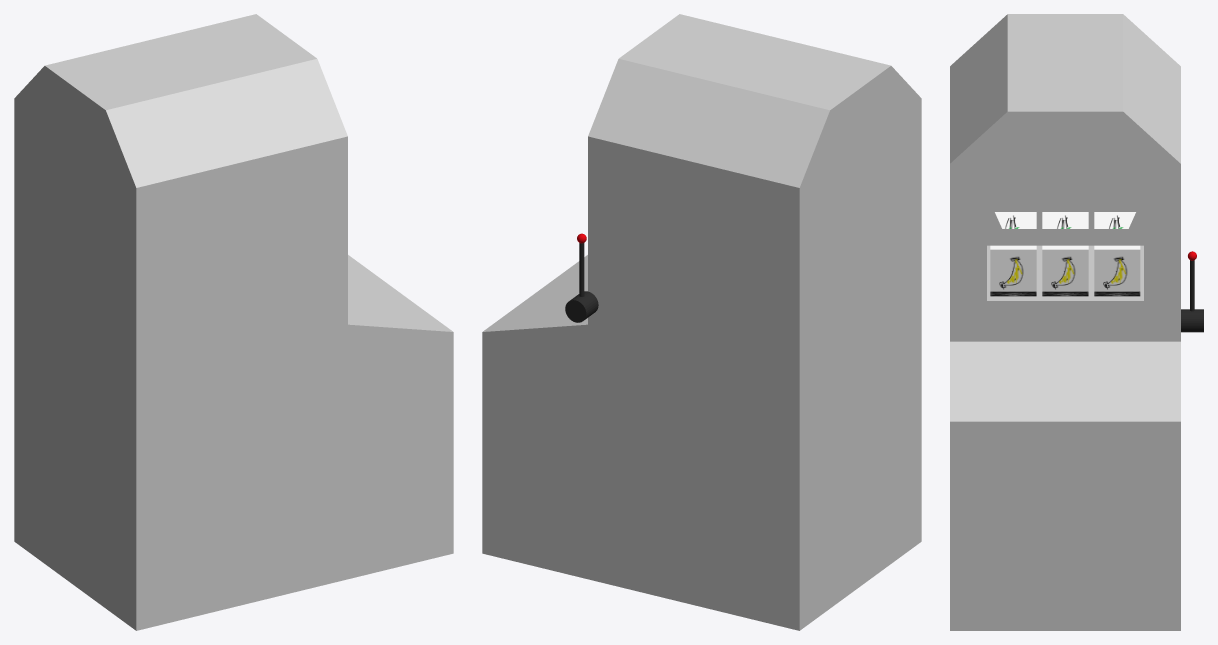
Rendered from slot.fbx.
3 renders of one model, left to right at view 1: azimuth 30°, elevation 25°; view 2: azimuth 150°, elevation 25°; view 3: azimuth 270°, elevation 25°, orthographic. The views are drawn at different scales.
Parts seen in each view (by area): view 1: Cube, Cube.003, Cube.002, Cube.001; view 2: Cube, Cube.003, Cube.002, Cube.001, Crank; view 3: Cube.001, Cube.003, Cube.002, Reel1, Reel0, Reel2, Crank.
Boxes of the visible parts, left/top/right/bottom form: Cube: left=14, top=287, right=347, bottom=630; Cube.003: left=14, top=99, right=347, bottom=376; Cube.002: left=14, top=14, right=347, bottom=187; Cube.001: left=348, top=255, right=453, bottom=579; Cube: left=588, top=287, right=921, bottom=630; Cube.003: left=588, top=99, right=921, bottom=376; Cube.002: left=588, top=14, right=921, bottom=187; Cube.001: left=482, top=255, right=587, bottom=579; Crank: left=565, top=233, right=598, bottom=322; Cube.001: left=950, top=341, right=1180, bottom=630; Cube.003: left=950, top=164, right=1180, bottom=341; Cube.002: left=950, top=14, right=1180, bottom=163; Reel1: left=1042, top=212, right=1088, bottom=296; Reel0: left=990, top=212, right=1036, bottom=296; Reel2: left=1094, top=212, right=1140, bottom=296; Crank: left=1181, top=251, right=1203, bottom=332.
Bounding box in the file's own units: 300 × 450 × 220.
